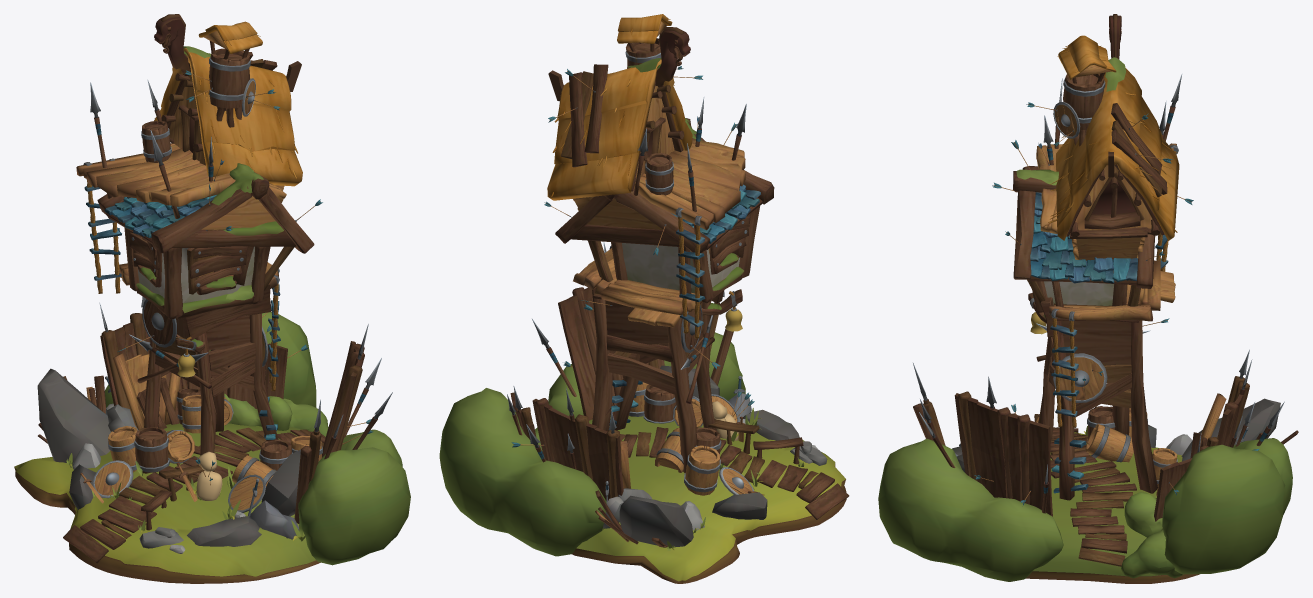
The model's file is warrior-hut.glb.
3 views of the same model, side by side, from view 1: azimuth 30°, elevation 25°; view 2: azimuth 150°, elevation 25°; view 3: azimuth 270°, elevation 25° (orthographic).
Parts seen in each view (by area): view 1: guardpost_environment_geo_AO_environment_0, guardpost_geo_AO_building_0; view 2: guardpost_environment_geo_AO_environment_0, guardpost_geo_AO_building_0; view 3: guardpost_environment_geo_AO_environment_0, guardpost_geo_AO_building_0.
Boxes of the visible parts, x1,y1,x2,y2 form: guardpost_environment_geo_AO_environment_0: (14, 296, 410, 583); guardpost_geo_AO_building_0: (76, 14, 322, 473); guardpost_environment_geo_AO_environment_0: (439, 242, 849, 583); guardpost_geo_AO_building_0: (544, 14, 774, 472); guardpost_environment_geo_AO_environment_0: (878, 349, 1298, 583); guardpost_geo_AO_building_0: (992, 14, 1193, 500).
Size of the model in its own units: 508 by 783 by 601.
Materials: 2 (2 with a texture image).
